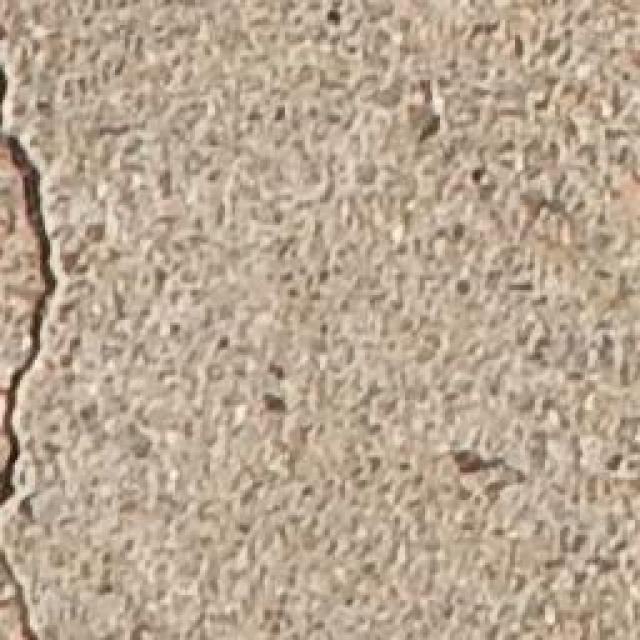concrete-crack: (0, 69, 63, 640)
